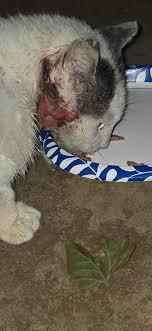infection: (19, 53, 111, 137)
